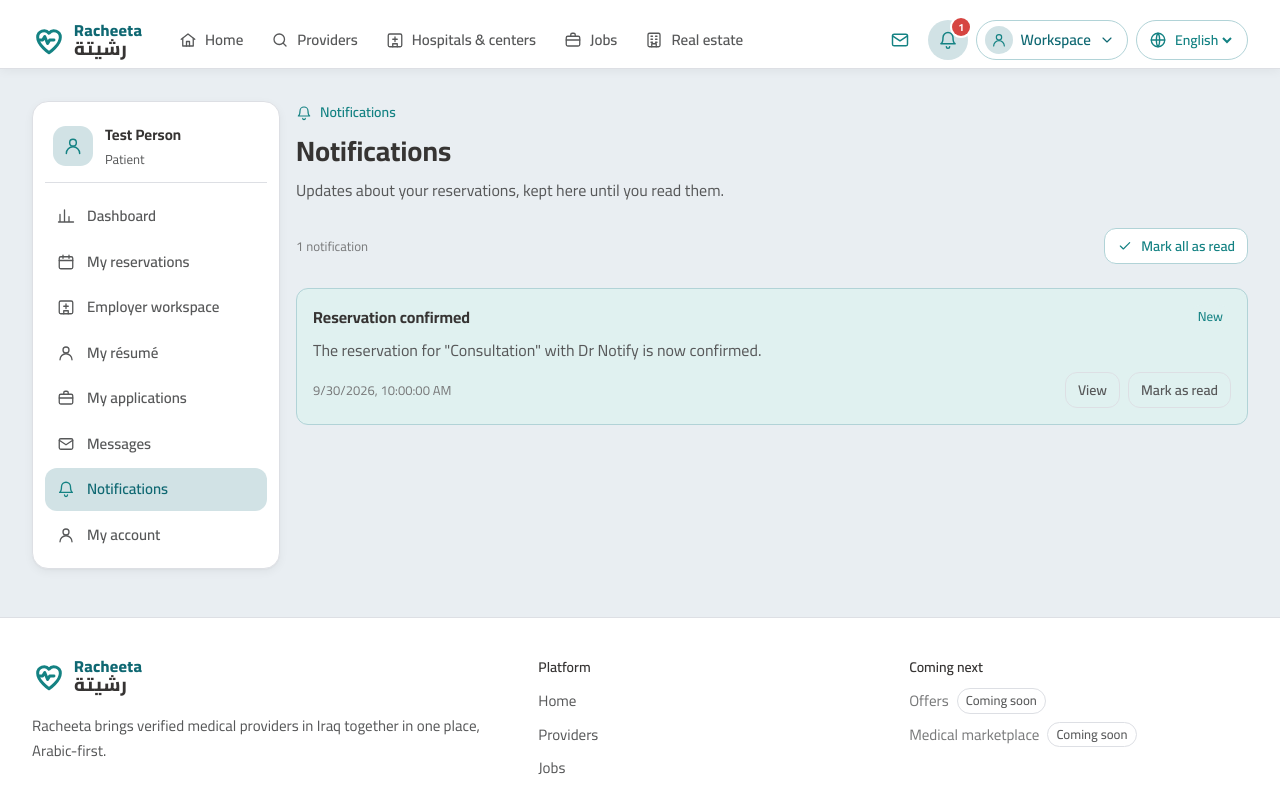
it: NotificationsPage › marks one notification read, reloads the list and refreshes the count from the backend
Expected: the text with test id "notifications-badge" reads "1", [958,17,964,37]
What coordinates should you click on to do the following:
click the button "Mark as read"
I would click on:
 (1180, 390)
Its box is [1128,372,1231,408].
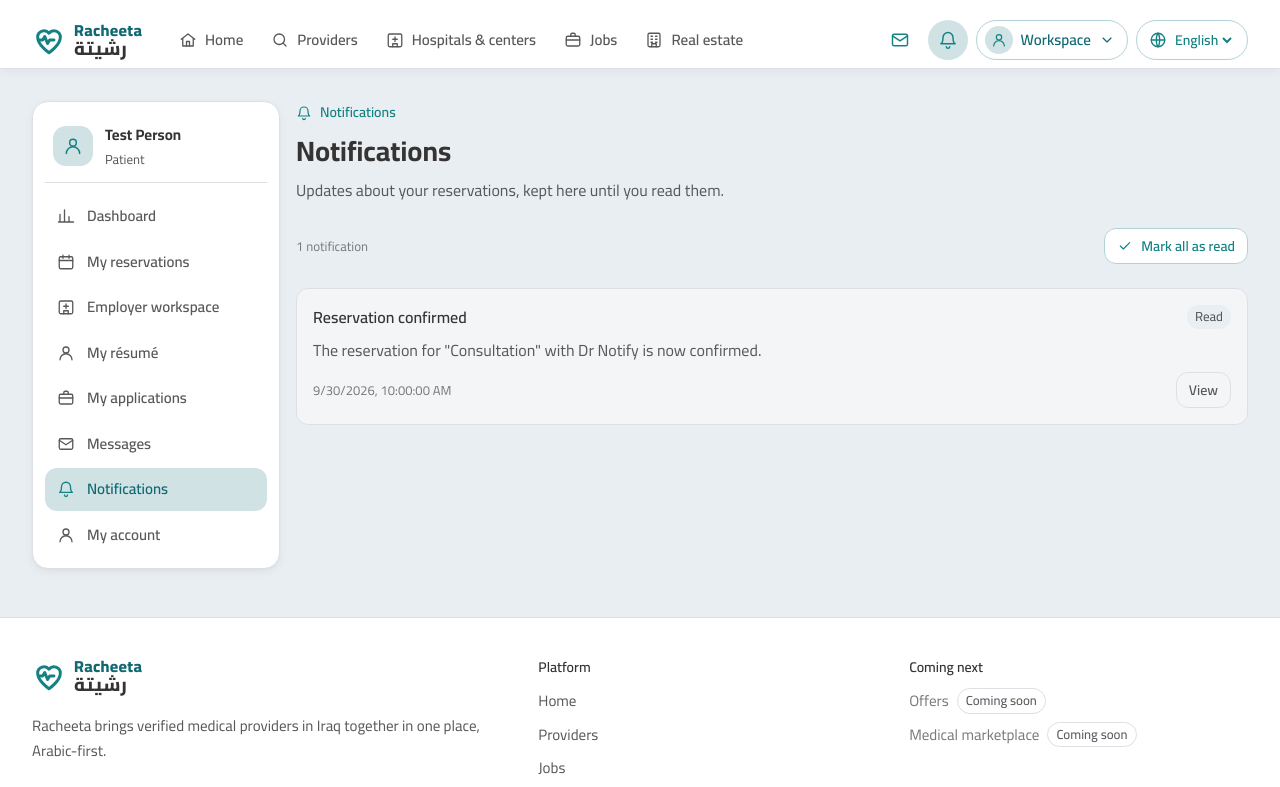
Expected: the text with test id "notifications-badge" is gone
Expected: the button "Mark as read" is gone
